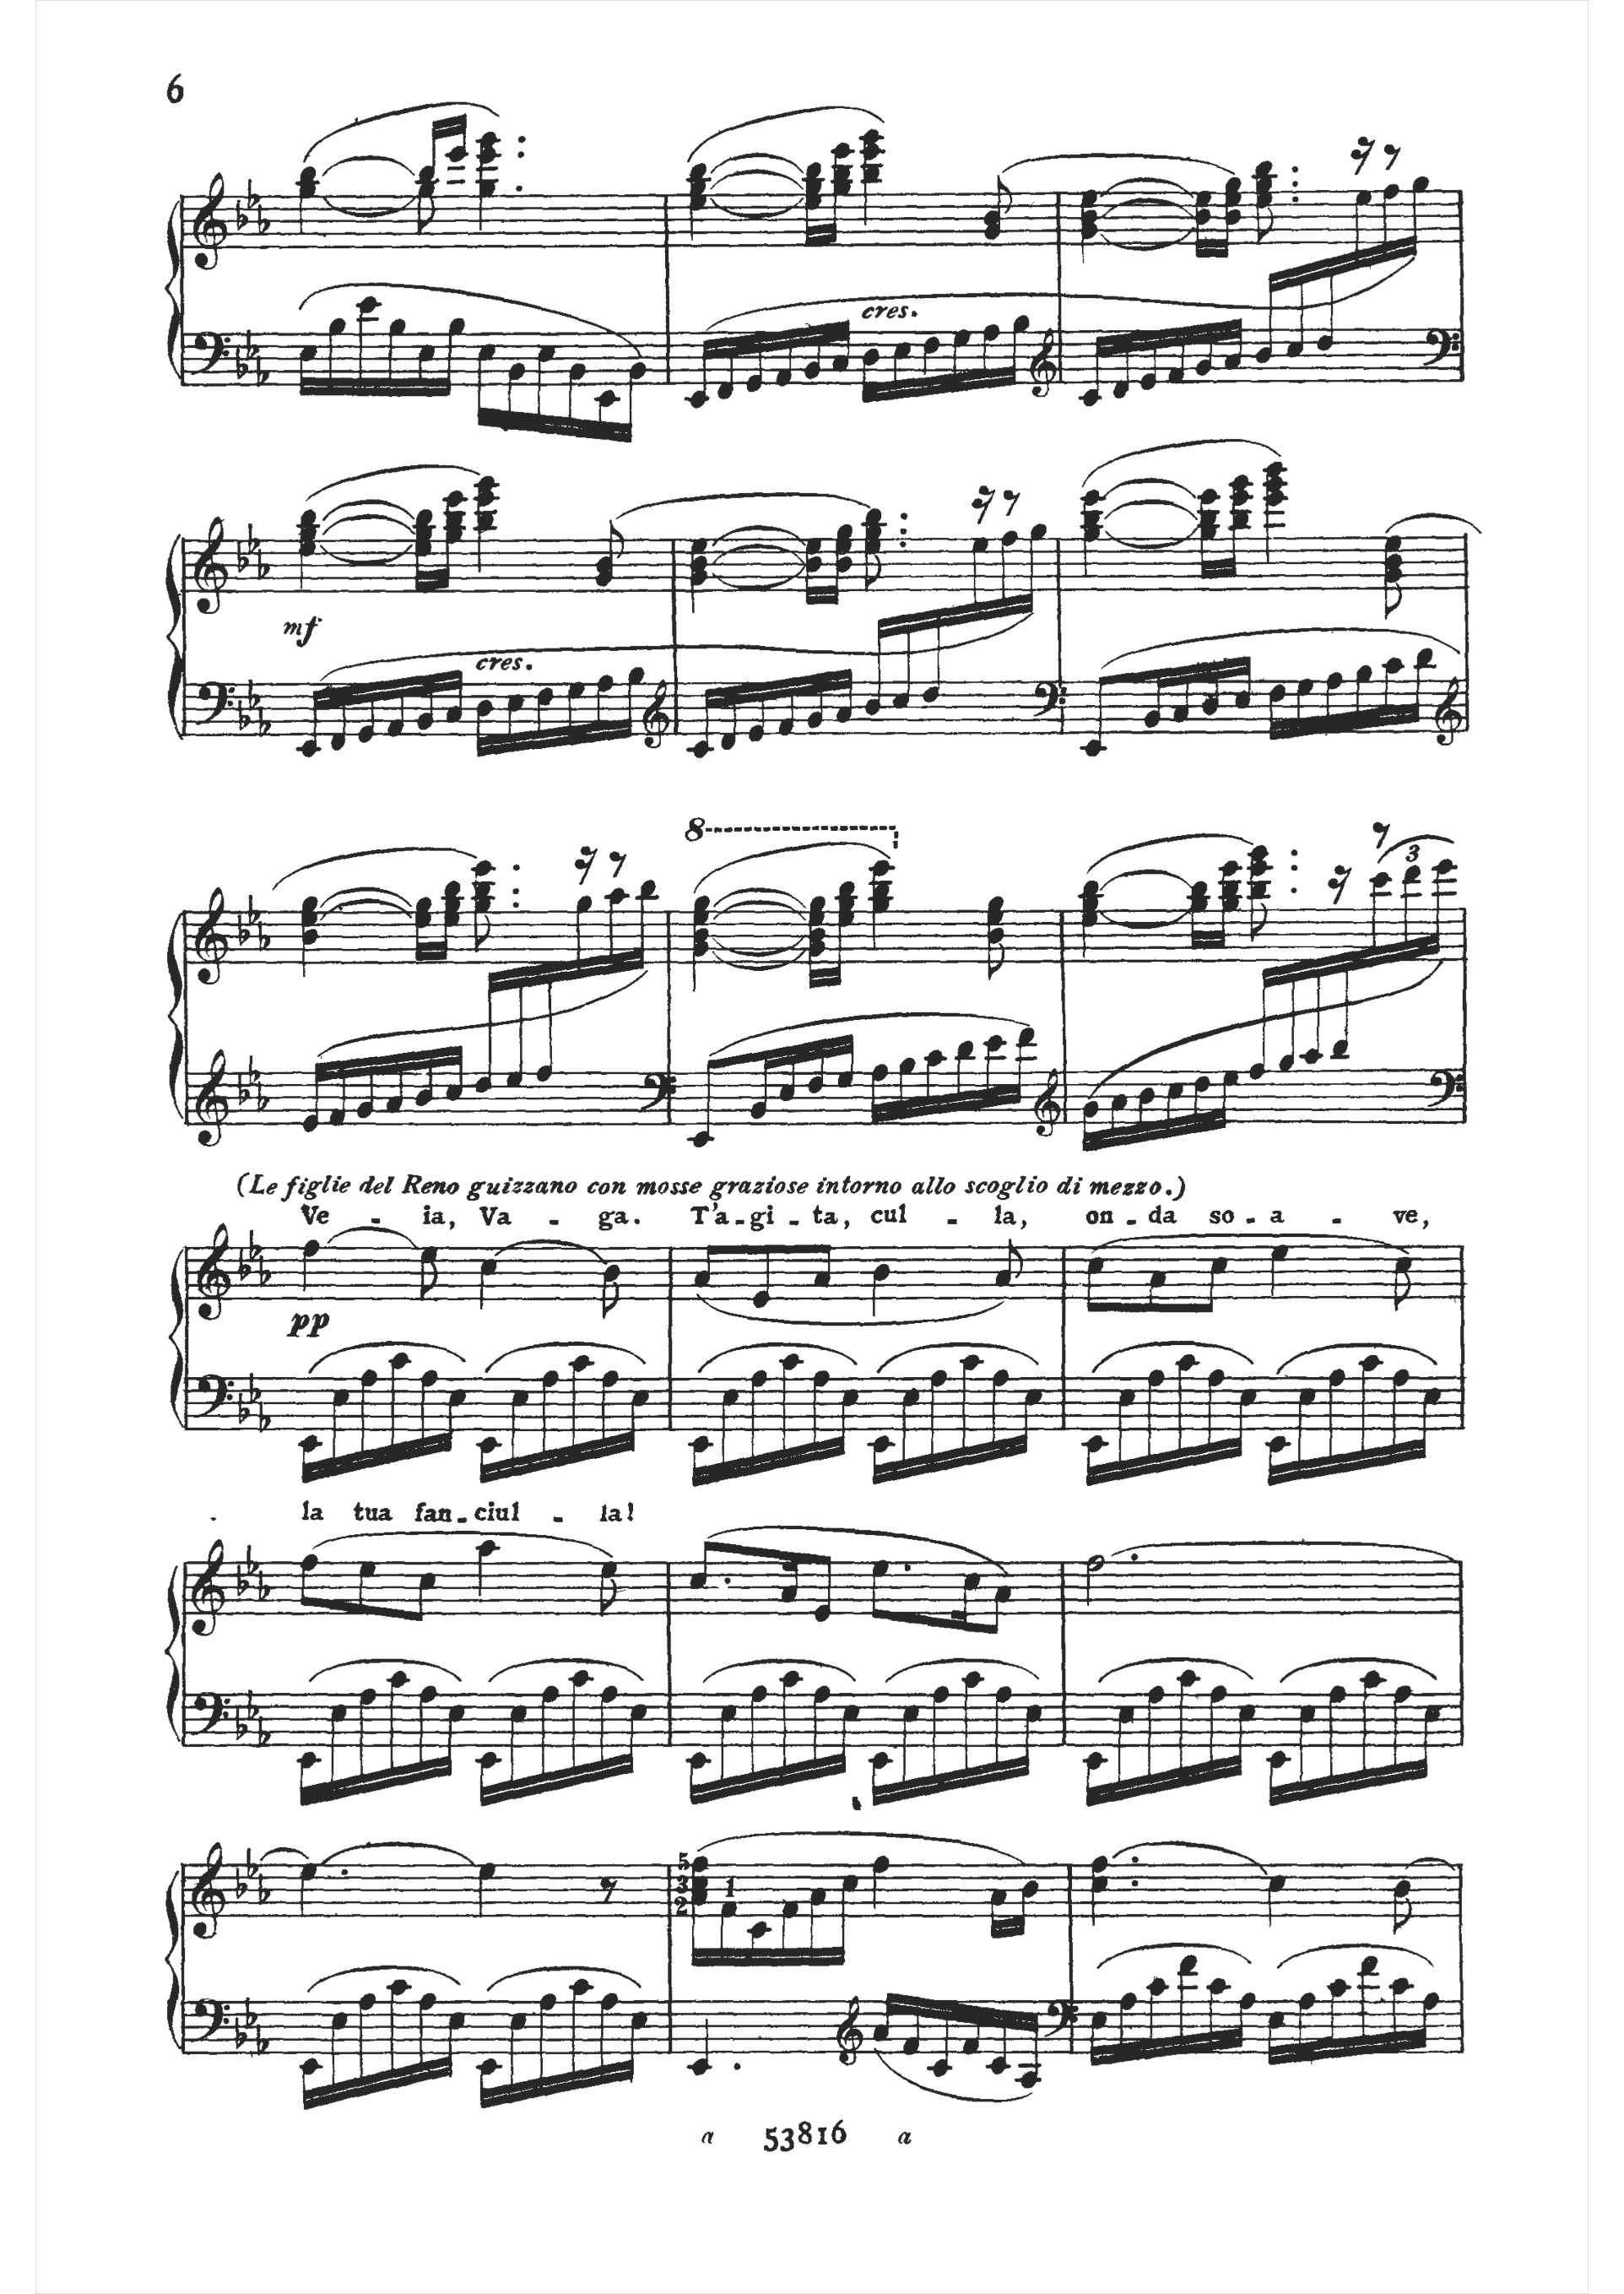bass_clef: (183, 666, 239, 742), (186, 1361, 236, 1433), (188, 1986, 232, 2064), (183, 323, 232, 390), (185, 1684, 232, 1747)
flat: (243, 670, 267, 714), (243, 1682, 265, 1724), (253, 703, 278, 742), (244, 515, 265, 559), (250, 1079, 276, 1114), (228, 2013, 250, 2057), (230, 1563, 253, 1603), (253, 1870, 276, 1911), (255, 1712, 274, 1756), (253, 545, 272, 587), (243, 1051, 264, 1090), (241, 1844, 262, 1883), (234, 1387, 251, 1433), (241, 172, 260, 213), (253, 2022, 272, 2062), (232, 912, 253, 949), (236, 1243, 253, 1287), (246, 1229, 265, 1267), (257, 1570, 276, 1608), (230, 1863, 250, 1902), (255, 1403, 276, 1438), (239, 1993, 260, 2029), (241, 330, 264, 362), (255, 202, 274, 239), (232, 540, 251, 577), (243, 1540, 262, 1577), (232, 343, 250, 383), (255, 1252, 274, 1287), (255, 350, 272, 387), (236, 700, 253, 737), (246, 1373, 264, 1410), (232, 199, 250, 234), (257, 921, 274, 956), (234, 1072, 251, 1107), (244, 893, 262, 926), (234, 1703, 248, 1742)
treble_clef: (183, 167, 234, 278), (185, 510, 234, 619), (185, 1535, 230, 1647), (183, 1830, 228, 1942), (192, 1044, 236, 1157), (192, 1213, 236, 1325), (192, 882, 232, 984)
